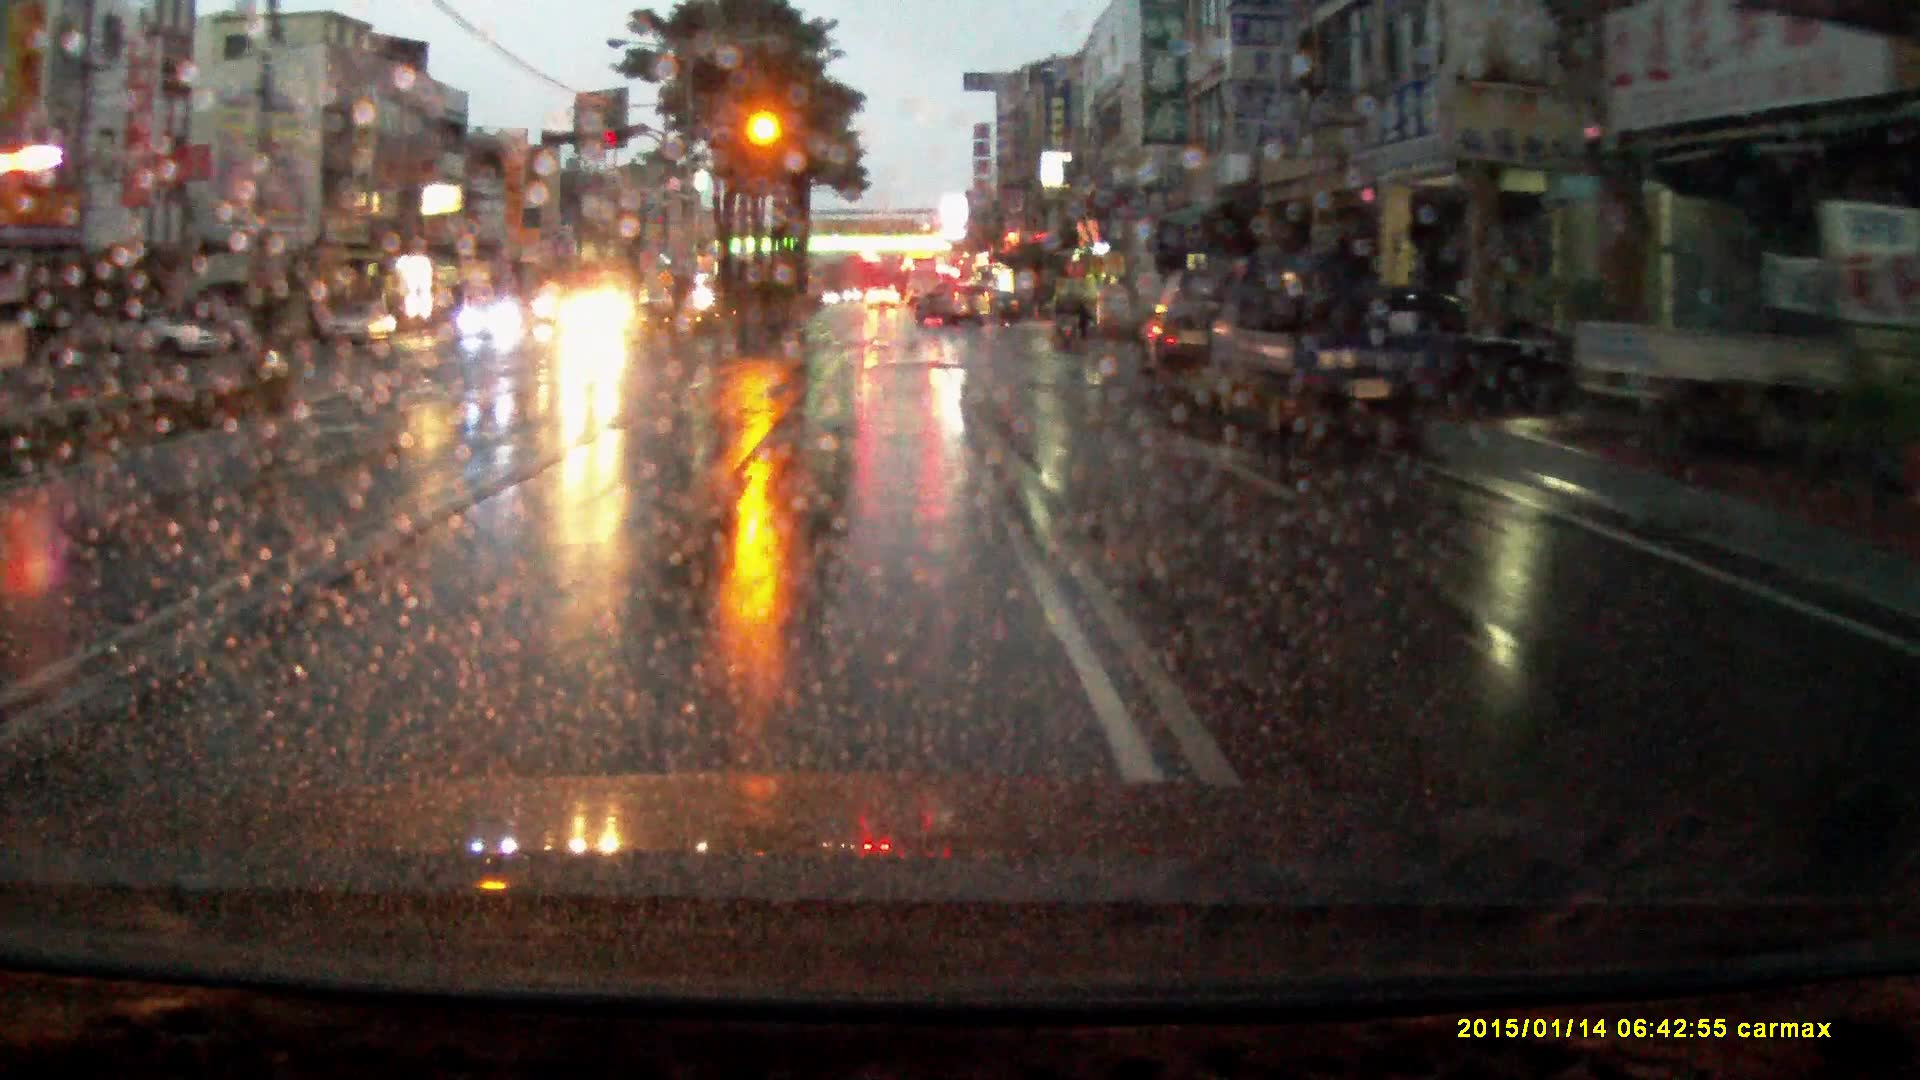vehicle: (1578, 256, 1920, 456), (1218, 245, 1444, 439), (1147, 265, 1229, 415), (96, 309, 220, 361), (556, 287, 636, 348), (327, 299, 398, 355), (918, 284, 996, 328), (462, 294, 526, 342), (206, 306, 266, 355), (909, 258, 944, 305), (989, 291, 1021, 322), (866, 287, 902, 311)
